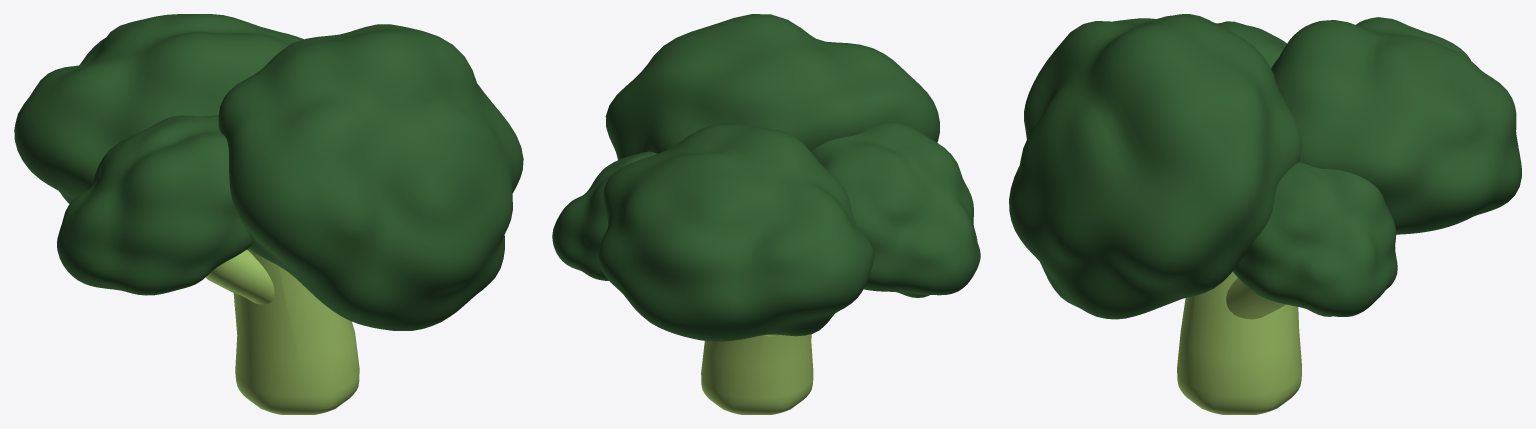
The model's file is brokkoli.glb.
3 views of the same model, side by side, from view 1: azimuth 30°, elevation 25°; view 2: azimuth 150°, elevation 25°; view 3: azimuth 270°, elevation 25° (orthographic). The views are drawn at different scales.
Parts seen in each view (by area): view 1: Icosphere.003, Icosphere.001, Icosphere.002, Cylinder, Cylinder.001; view 2: Icosphere.001, Icosphere.003, Icosphere.002, Cylinder, Icosphere.004; view 3: Icosphere.003, Icosphere.001, Icosphere.004, Cylinder, Cylinder.004, Icosphere.002.
Part boxes in pixels (left/top/right/bottom): Icosphere.003: left=218, top=24, right=523, bottom=330; Icosphere.001: left=14, top=14, right=303, bottom=203; Icosphere.002: left=57, top=115, right=252, bottom=295; Cylinder: left=233, top=248, right=359, bottom=414; Cylinder.001: left=206, top=249, right=274, bottom=304; Icosphere.001: left=598, top=124, right=873, bottom=341; Icosphere.003: left=605, top=14, right=939, bottom=159; Icosphere.002: left=811, top=122, right=980, bottom=297; Cylinder: left=701, top=334, right=813, bottom=414; Icosphere.004: left=552, top=151, right=656, bottom=280; Icosphere.003: left=1009, top=15, right=1301, bottom=319; Icosphere.001: left=1271, top=17, right=1521, bottom=234; Icosphere.004: left=1232, top=162, right=1397, bottom=316; Cylinder: left=1177, top=271, right=1301, bottom=414; Cylinder.004: left=1226, top=278, right=1285, bottom=319; Icosphere.002: left=1175, top=14, right=1286, bottom=68.
Size of the model in its own units: 0.3191 by 0.276 by 0.3337.
